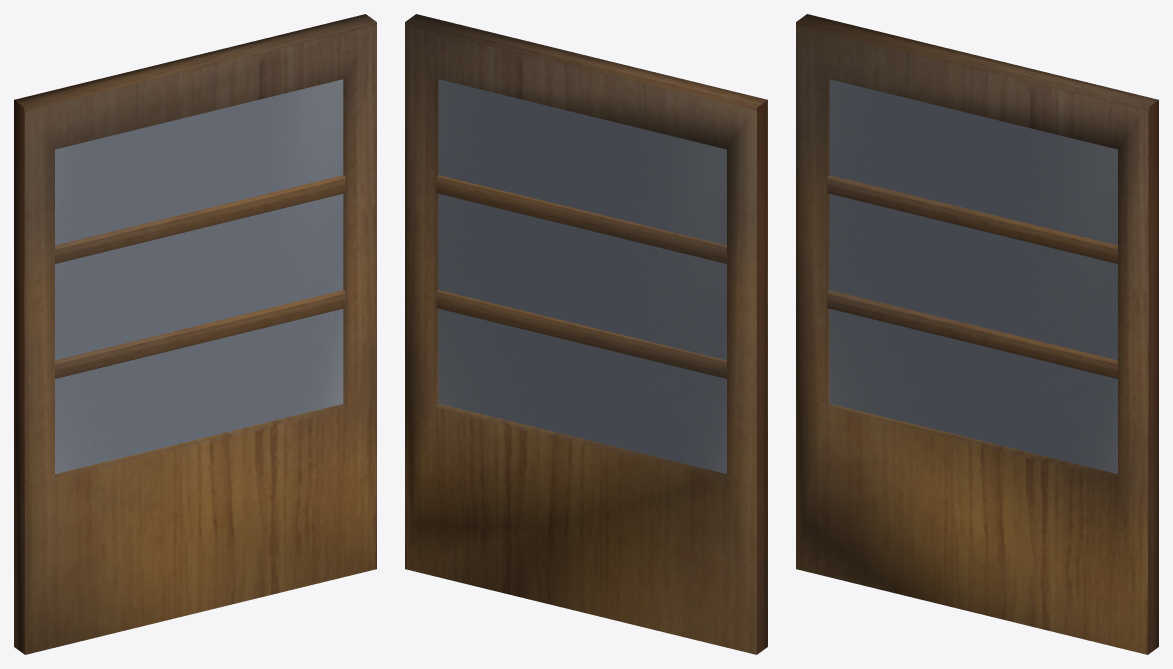
Rendered from jj-yimen.FBX.
3 views of the same model, side by side, from view 1: azimuth 30°, elevation 25°; view 2: azimuth 150°, elevation 25°; view 3: azimuth 330°, elevation 25° (orthographic).
Visible parts, largest first — view 1: jj-yimen, jj-yimen_a; view 2: jj-yimen, jj-yimen_a; view 3: jj-yimen, jj-yimen_a.
Part boxes in pixels (x1=…): jj-yimen: x1=14, y1=14, x2=376, y2=654; jj-yimen_a: x1=55, y1=79, x2=343, y2=473; jj-yimen: x1=405, y1=14, x2=767, y2=654; jj-yimen_a: x1=438, y1=79, x2=726, y2=473; jj-yimen: x1=796, y1=14, x2=1158, y2=654; jj-yimen_a: x1=829, y1=79, x2=1117, y2=473.
Bounding box in the file's own units: 140 × 208 × 7.64.
